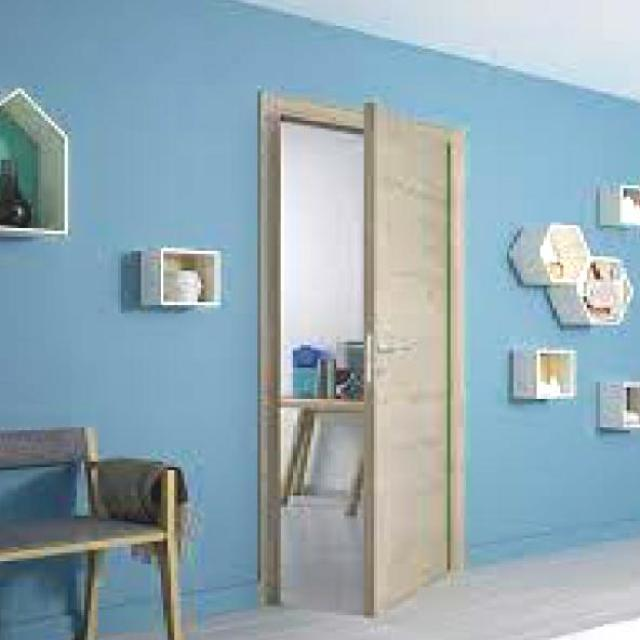door: (354, 94, 459, 616)
